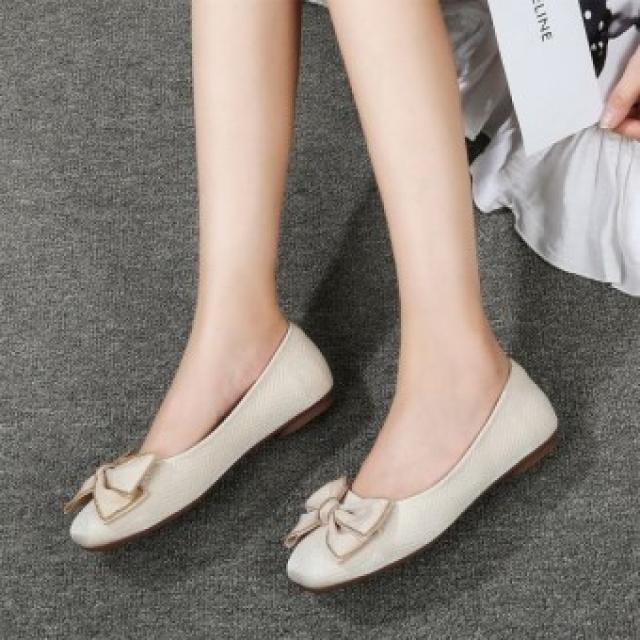no-boots: (290, 299, 591, 621), (47, 290, 341, 546)
